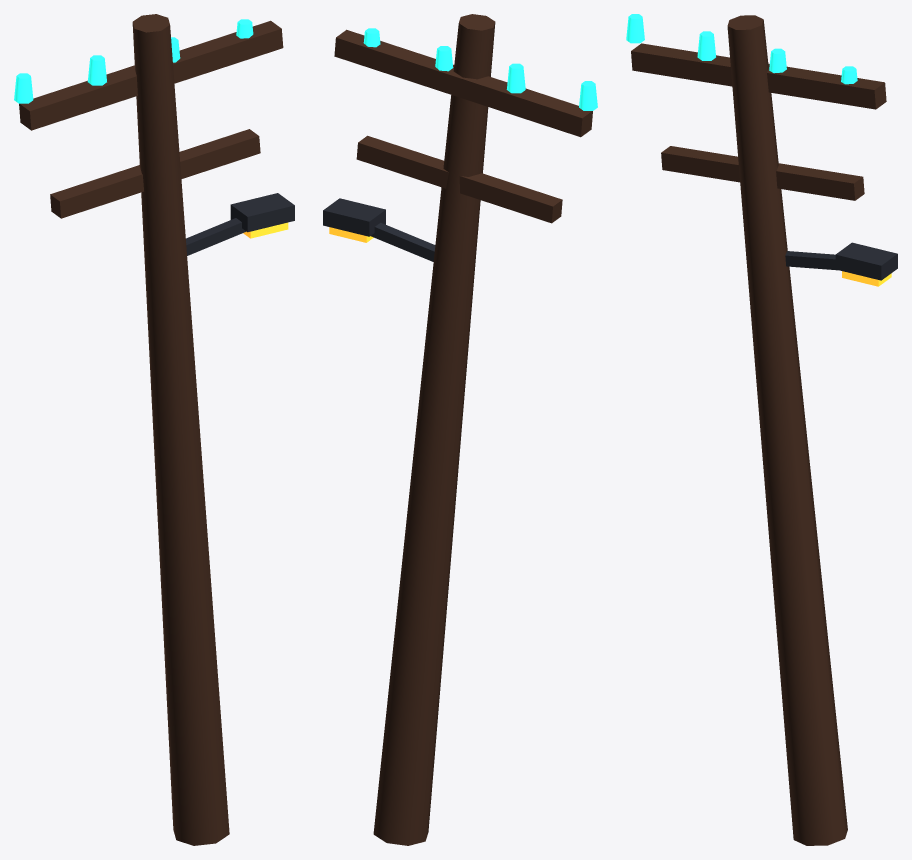
Rendered from prop_utility_pole.glb.
The picture shows the model from 3 angles, left to right: view 1: azimuth 30°, elevation 25°; view 2: azimuth 150°, elevation 25°; view 3: azimuth 330°, elevation 25°; orthographic projection. The views are drawn at different scales.
Parts seen in each view (by area): view 1: pole_shaft, crossarm_top, crossarm_bot, lamp_hood, lamp_arm; view 2: pole_shaft, crossarm_top, crossarm_bot, lamp_hood, lamp_arm; view 3: pole_shaft, crossarm_top, crossarm_bot, lamp_hood, lamp_arm.
Boxes of the visible parts, box(x1,y1,x2,y2) form: pole_shaft: box(132, 14, 229, 845); crossarm_top: box(19, 20, 283, 130); crossarm_bot: box(50, 129, 260, 218); lamp_hood: box(230, 193, 294, 232); lamp_arm: box(186, 218, 245, 255); pole_shaft: box(373, 14, 495, 845); crossarm_top: box(334, 29, 592, 137); crossarm_bot: box(356, 135, 562, 223); lamp_hood: box(323, 198, 385, 236); lamp_arm: box(371, 222, 435, 261); pole_shaft: box(727, 15, 847, 845); crossarm_top: box(631, 43, 886, 109); crossarm_bot: box(661, 146, 864, 200); lamp_hood: box(835, 242, 897, 280); lamp_arm: box(785, 251, 837, 270).
Bounding box in the file's own units: 2.56 × 7.6 × 0.6271.
